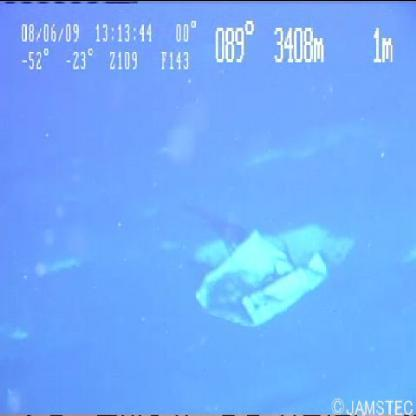Rác: (173, 193, 373, 342)
